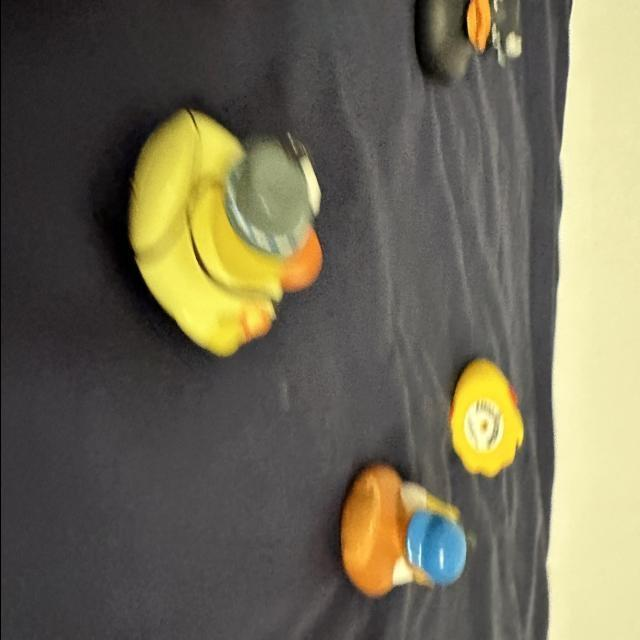rubber-duck: (128, 108, 320, 354), (340, 463, 465, 595), (414, 0, 521, 83), (449, 358, 522, 475)
